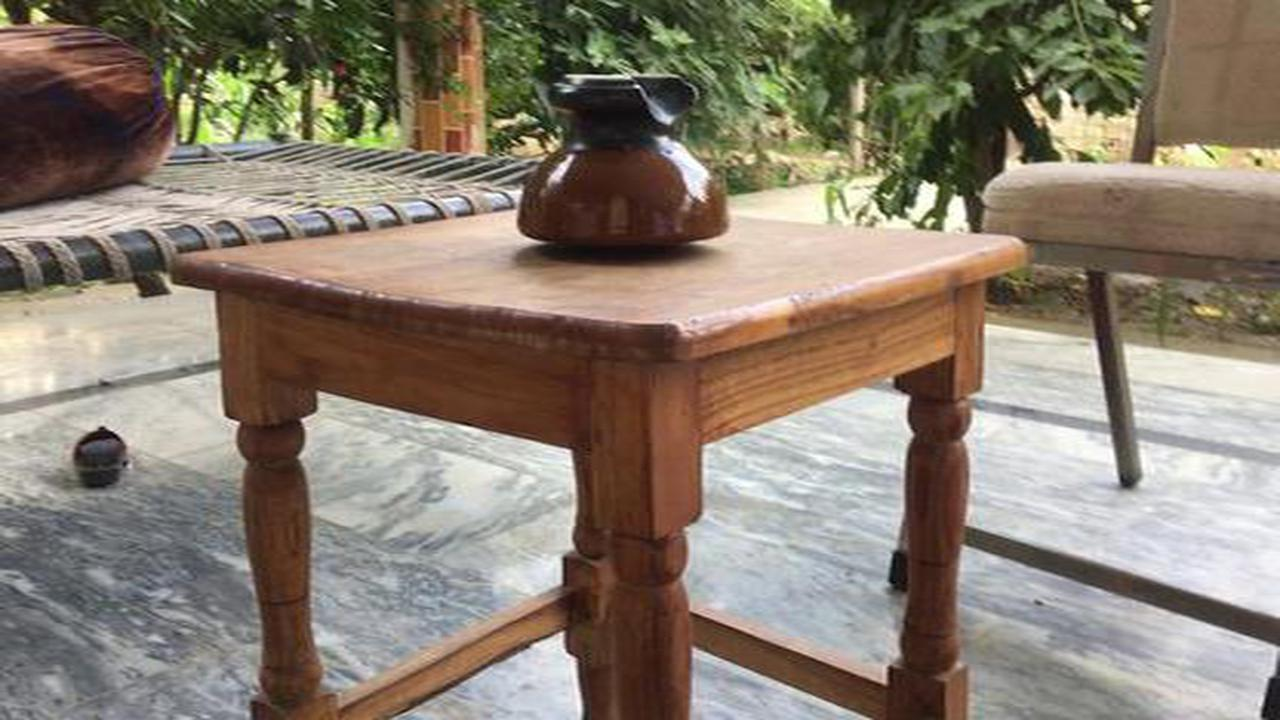insulator_pin: (502, 56, 745, 257)
